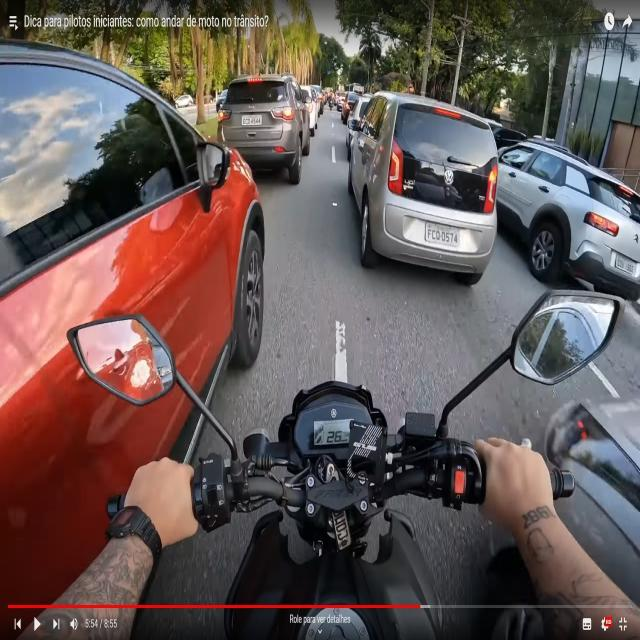Placa_mercosul_carro: (425, 222, 459, 246)
